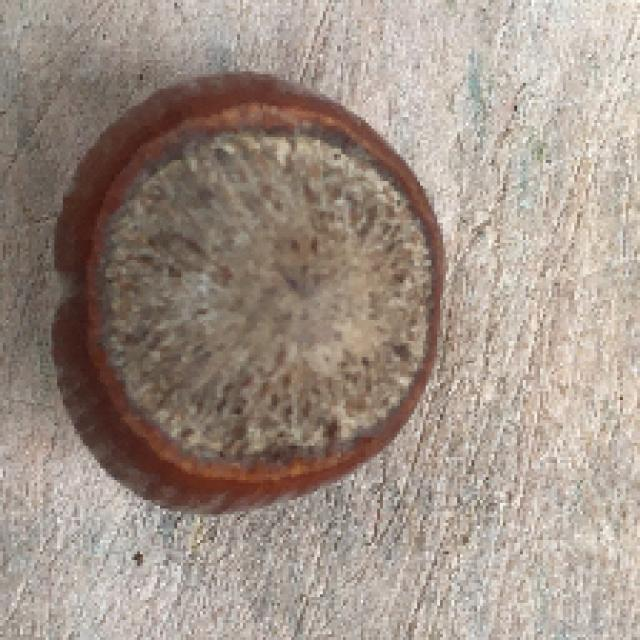qualityHazelnut: (49, 71, 452, 527)
